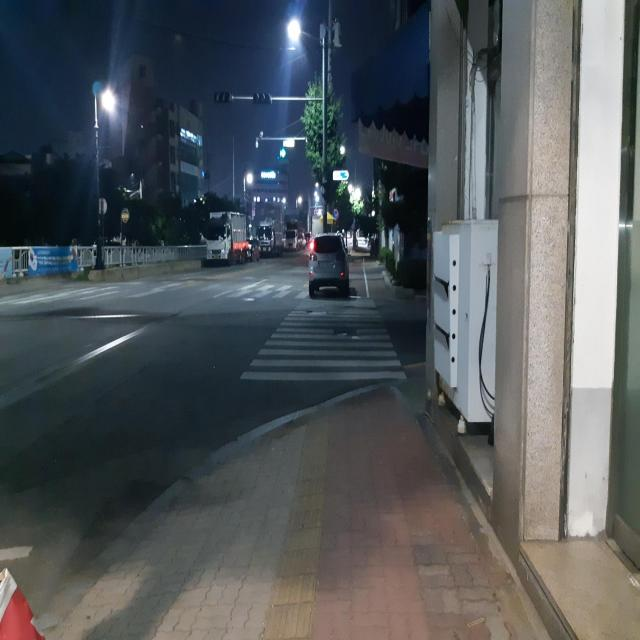횡단보도: (239, 296, 408, 382)
